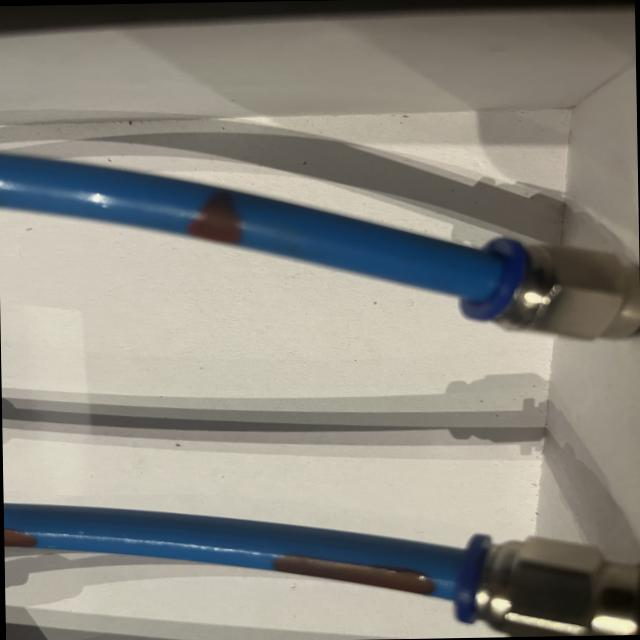hose_damage: (262, 548, 441, 600), (176, 183, 257, 250), (3, 522, 42, 552)
